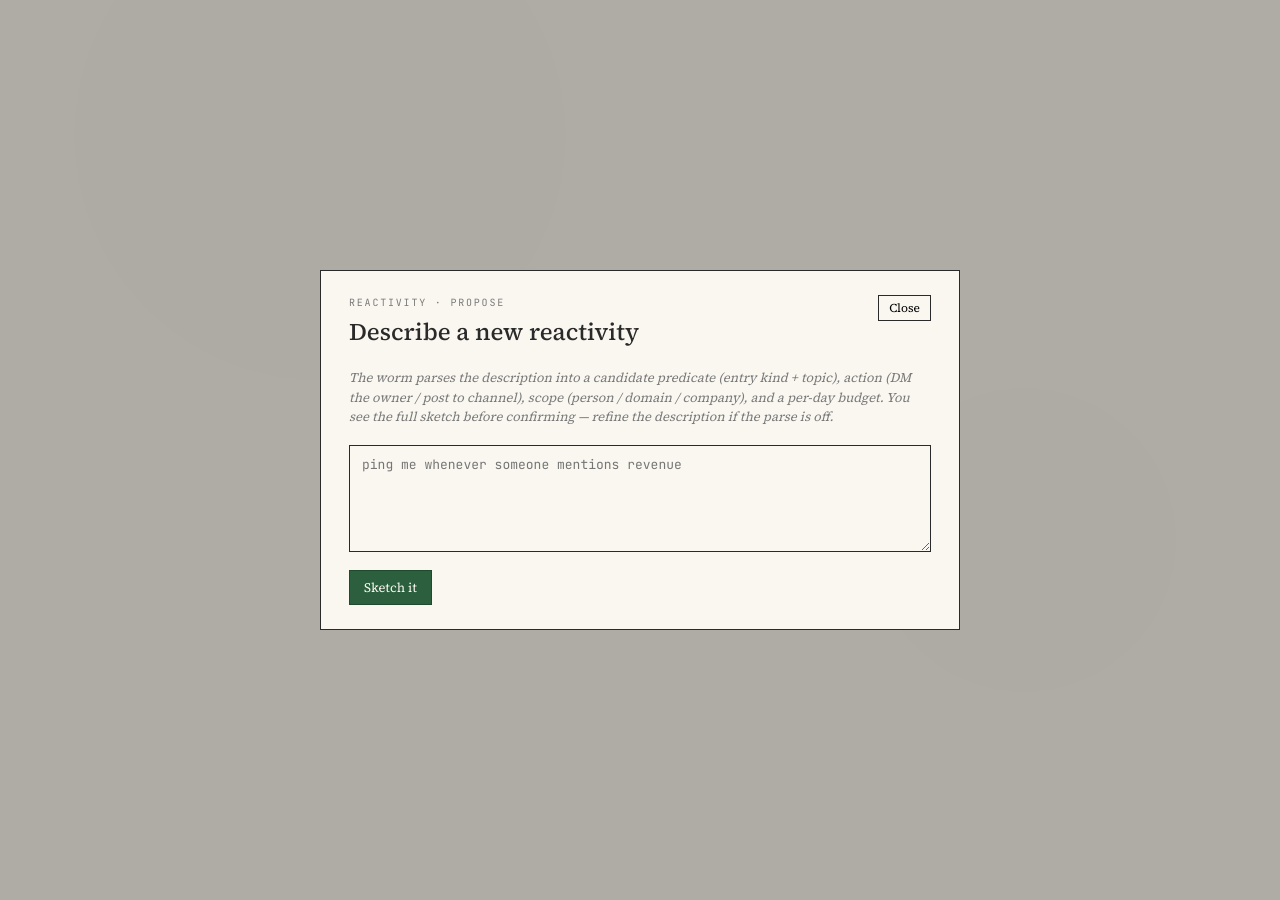
Test case: ProposeReactivityModal › Sketch it POSTs to ?preview=1 and advances to the preview stage
This screenshot has width=1280, height=900.
Type "ping me on revenue" into the text box with test id "propose-reactivity-description". click: (640, 498)
box: [349,445,931,552]
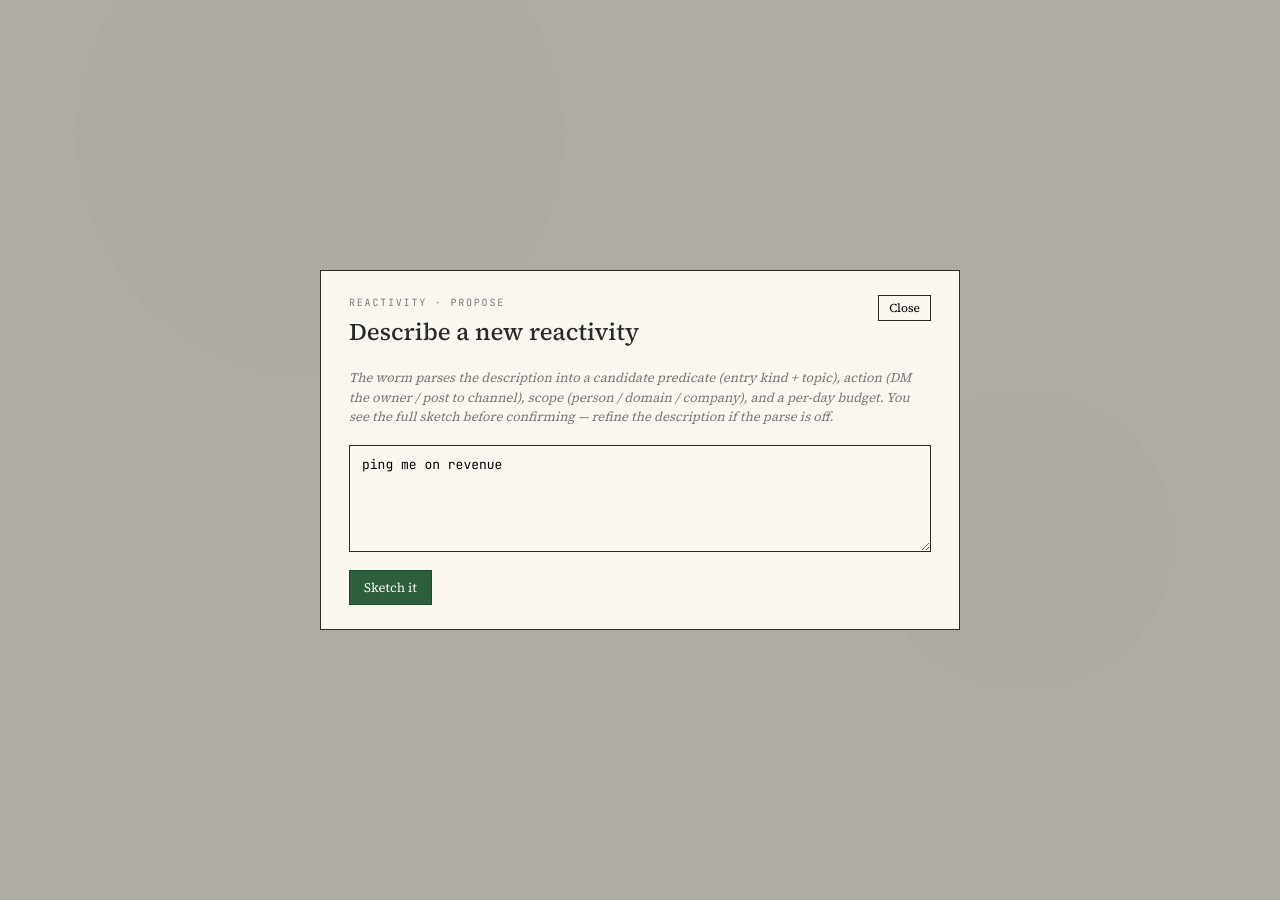
Click the button with test id "propose-reactivity-preview". click: (390, 587)
box: [349,570,432,605]
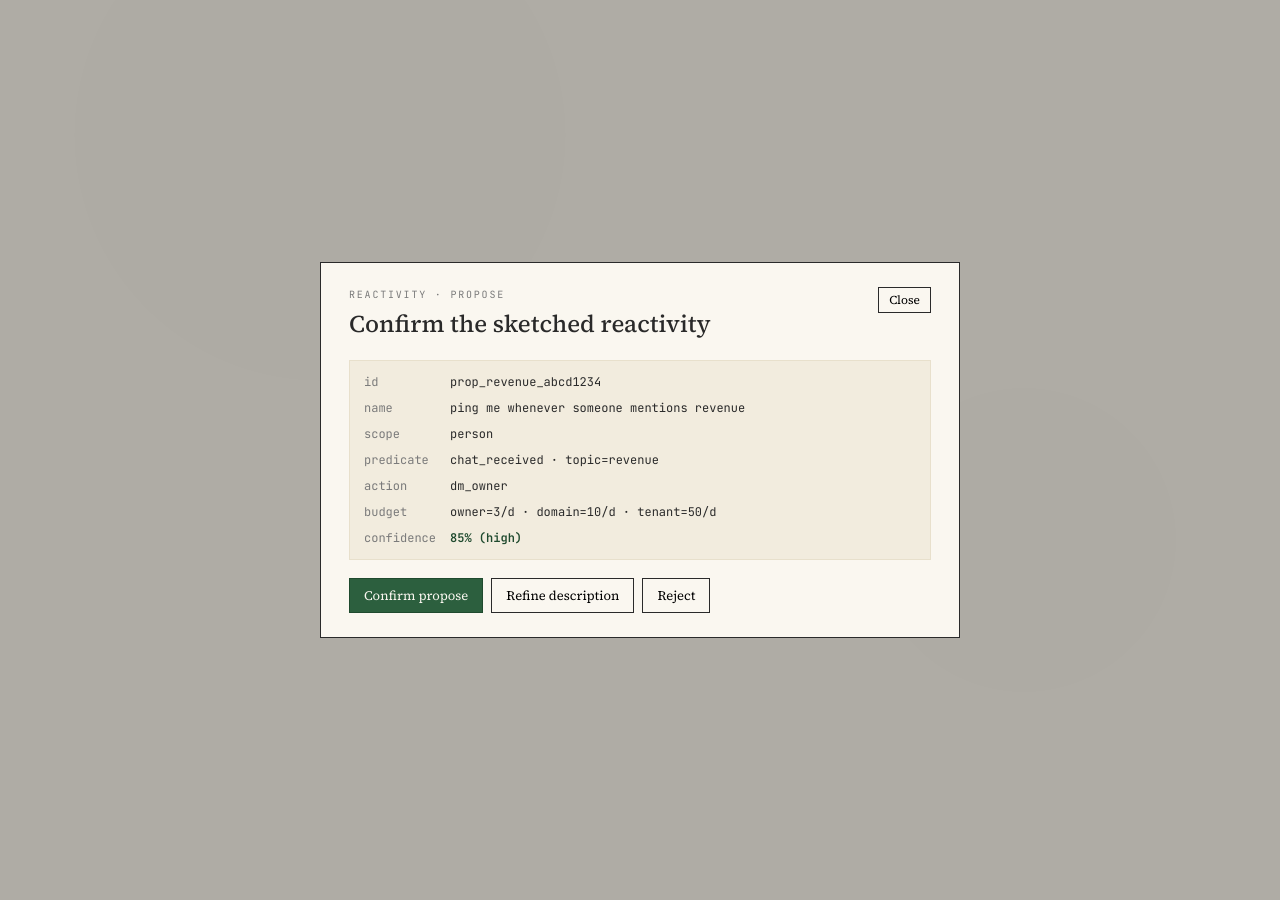
Now the element with test id "propose-reactivity-sketch" is shown, box [349,360,931,560]
Now the text with test id "propose-reactivity-sketch-id" reads "prop_revenue_abcd1234", box [450,374,601,390]
